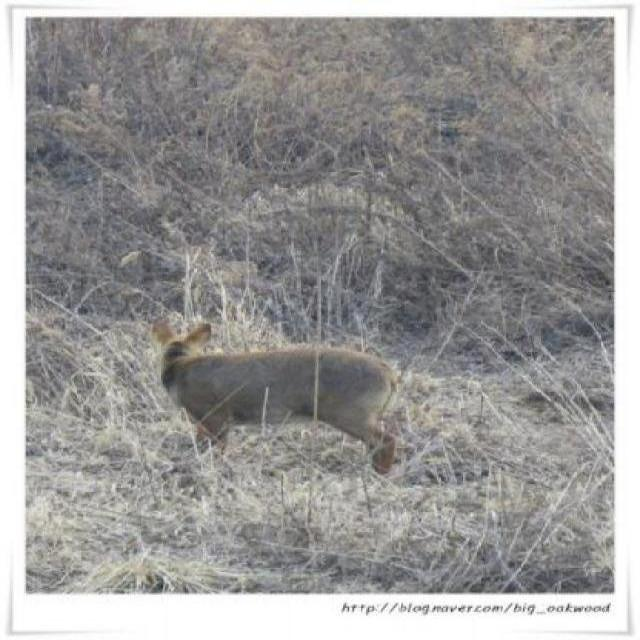deer: (154, 313, 406, 478)
